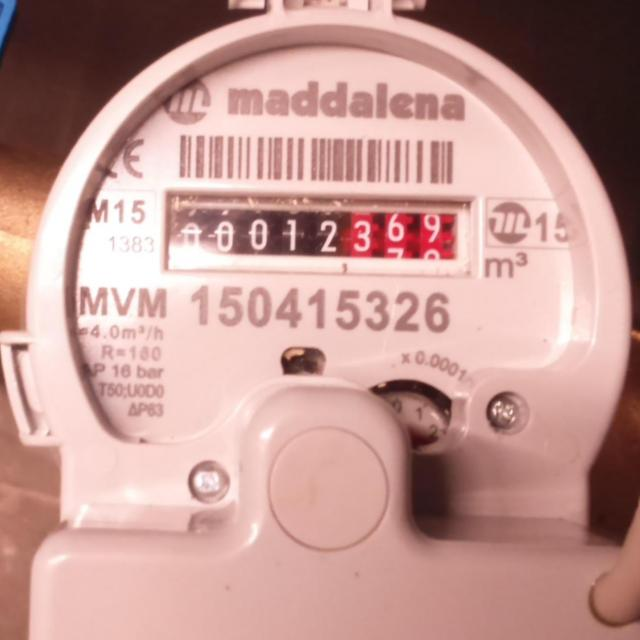gaz_meter: (23, 12, 630, 487)
indication: (167, 201, 461, 266)
